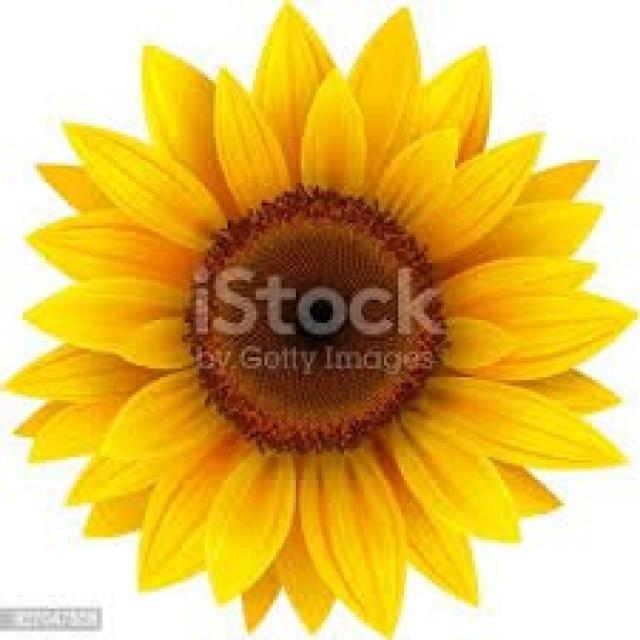sunflower: (5, 11, 640, 639)
